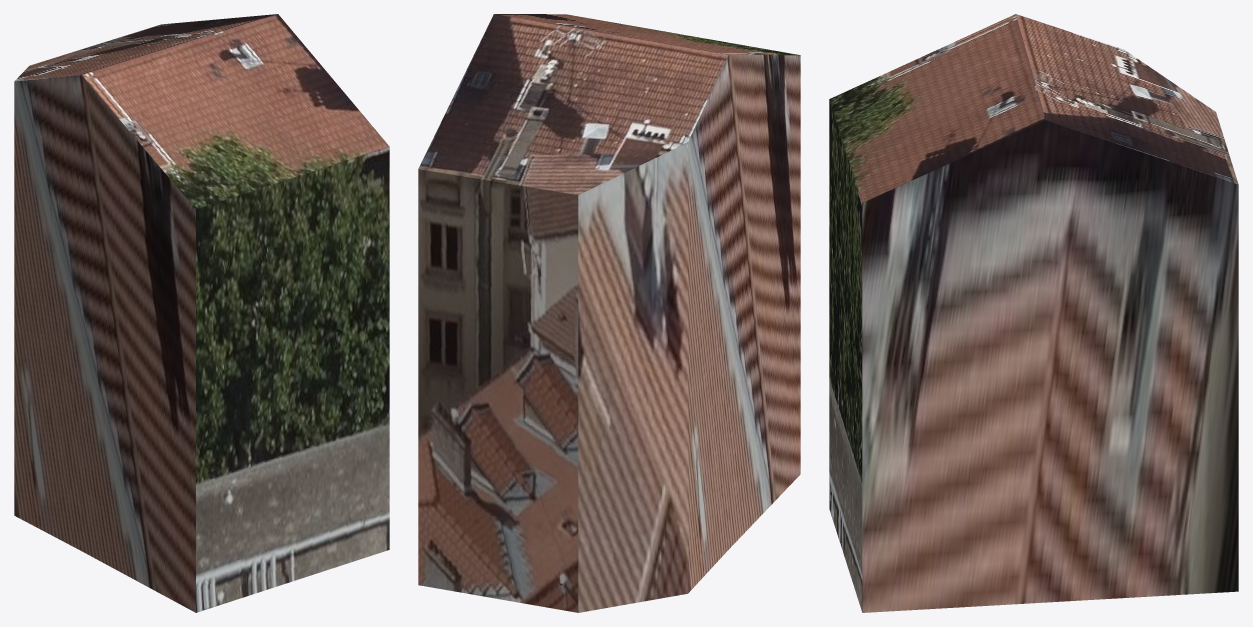
3 renders of one model, left to right at view 1: azimuth 30°, elevation 25°; view 2: azimuth 150°, elevation 25°; view 3: azimuth 270°, elevation 25°, orthographic. The views are drawn at different scales.
Visible parts, largest first — view 1: Z_UP; view 2: Z_UP; view 3: Z_UP.
Boxes of the visible parts, <box> form: Z_UP: <box>14,14,389,612</box>; Z_UP: <box>418,14,800,612</box>; Z_UP: <box>829,14,1238,612</box>.
Bounding box in the file's own units: 9.56 × 17.65 × 13.53.
Materials: 2 (1 with a texture image).
